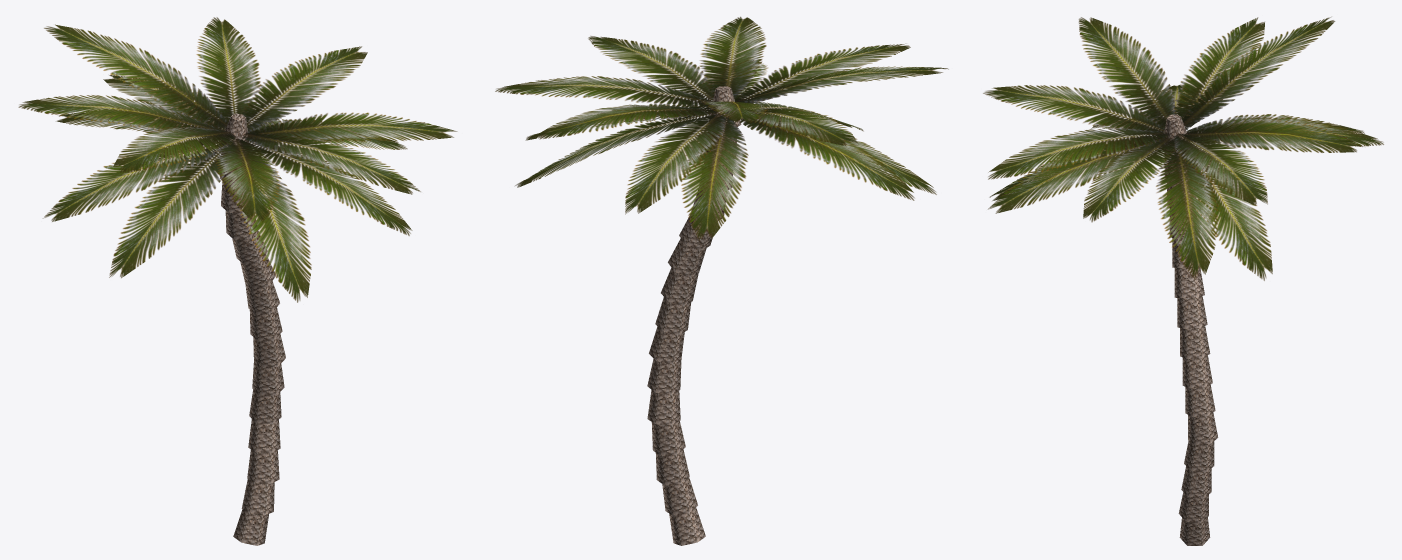
File: palm_tree.glb
The picture shows the model from 3 angles, left to right: view 1: azimuth 30°, elevation 25°; view 2: azimuth 150°, elevation 25°; view 3: azimuth 270°, elevation 25°; orthographic projection. The views are drawn at different scales.
Parts seen in each view (by area): view 1: palm_tree; view 2: palm_tree; view 3: palm_tree.
Boxes of the visible parts, x1=… form: palm_tree: x1=18, y1=17, x2=457, y2=545; palm_tree: x1=495, y1=16, x2=948, y2=545; palm_tree: x1=983, y1=17, x2=1383, y2=545.
Bounding box in the file's own units: 6.38 × 8 × 6.31.
Materials: 2 (2 with a texture image).
